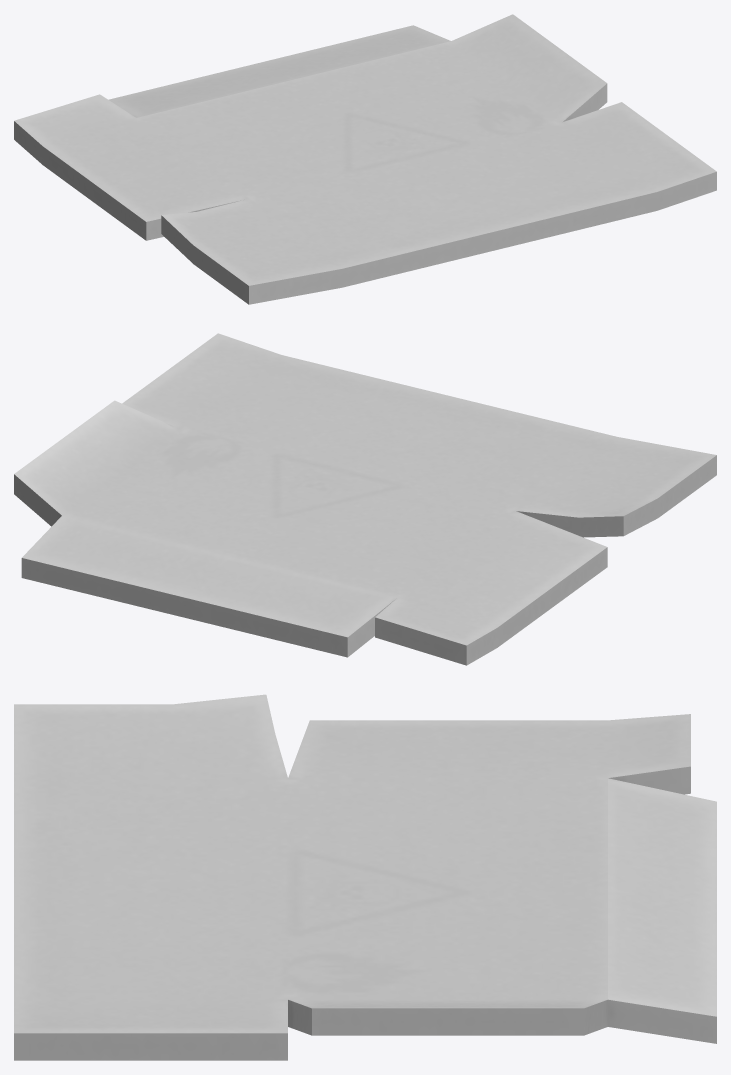
The model's file is Pfb_PaperBox__21.fbx.
3 views of the same model, one above another, from view 1: azimuth 30°, elevation 25°; view 2: azimuth 150°, elevation 25°; view 3: azimuth 270°, elevation 25° (orthographic). The views are drawn at different scales.
Parts seen in each view (by area): view 1: Mat_PaperBox_02 White; view 2: Mat_PaperBox_02 White; view 3: Mat_PaperBox_02 White.
Boxes of the visible parts, x1,y1,x2,y2 form: Mat_PaperBox_02 White: (14,14,716,304); Mat_PaperBox_02 White: (14,333,716,665); Mat_PaperBox_02 White: (14,694,716,1060).
Size of the model in its own units: 1.14 by 0.1182 by 1.03.
1 material, 1 textured.
